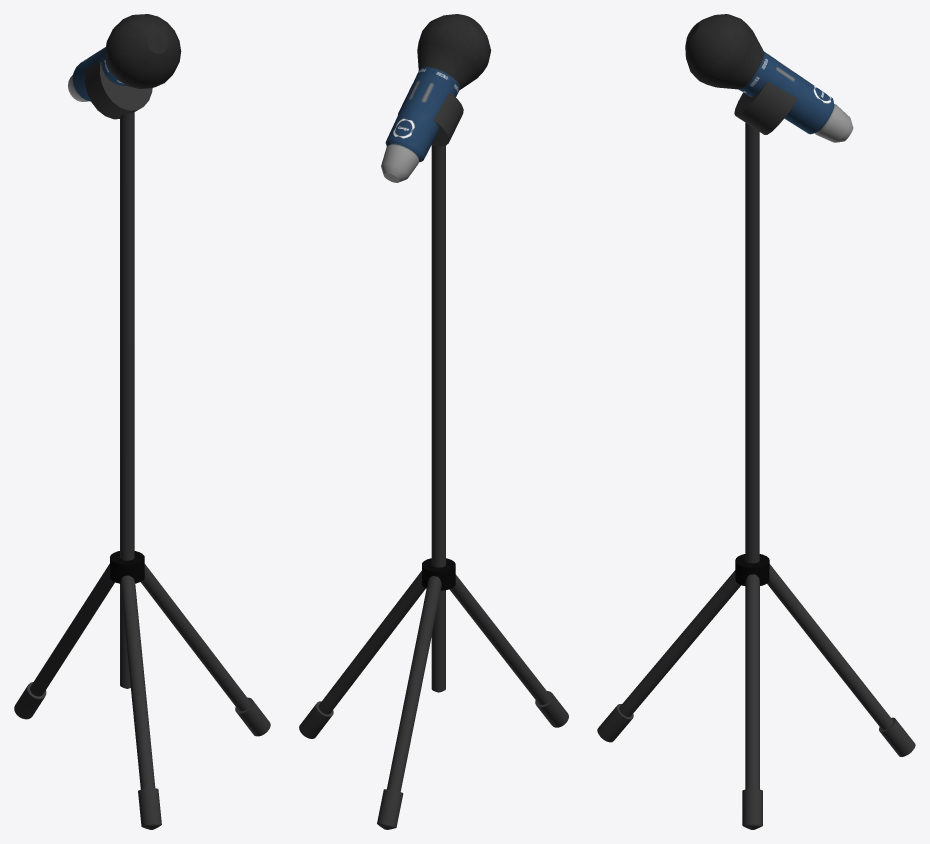
File: micro.glb
3 renders of one model, left to right at view 1: azimuth 30°, elevation 25°; view 2: azimuth 150°, elevation 25°; view 3: azimuth 270°, elevation 25°, orthographic. The views are drawn at different scales.
Visible parts, largest first — view 1: CymbalLowerStick_1, polySurface2, CymbalSupportStick_5, CymbalSupportStick_4, CymbalSupportStick_3, polySurface1, CymbalBipodHolder_1; view 2: polySurface2, CymbalLowerStick_1, CymbalSupportStick_3, CymbalSupportStick_4, CymbalSupportStick_5, polySurface1, CymbalBipodHolder_1; view 3: polySurface2, CymbalLowerStick_1, CymbalSupportStick_4, CymbalSupportStick_3, CymbalSupportStick_5, polySurface1, CymbalBipodHolder_1.
Boxes of the visible parts, x1,y1,x2,y2 form: CymbalLowerStick_1: [120, 112, 134, 688]; polySurface2: [68, 14, 181, 101]; CymbalSupportStick_5: [120, 575, 161, 829]; CymbalSupportStick_4: [140, 564, 270, 736]; CymbalSupportStick_3: [14, 563, 114, 719]; polySurface1: [85, 61, 152, 119]; CymbalBipodHolder_1: [110, 551, 144, 583]; polySurface2: [381, 14, 491, 182]; CymbalLowerStick_1: [431, 145, 445, 692]; CymbalSupportStick_3: [377, 576, 441, 829]; CymbalSupportStick_4: [299, 571, 425, 738]; CymbalSupportStick_5: [449, 574, 568, 727]; polySurface1: [397, 84, 463, 146]; CymbalBipodHolder_1: [422, 558, 455, 590]; polySurface2: [685, 14, 853, 142]; CymbalLowerStick_1: [745, 122, 759, 563]; CymbalSupportStick_4: [742, 574, 762, 829]; CymbalSupportStick_3: [767, 564, 915, 756]; CymbalSupportStick_5: [597, 570, 741, 742]; polySurface1: [734, 81, 797, 134]; CymbalBipodHolder_1: [735, 554, 769, 585].
Bounding box in the file's own units: 5.19 × 18.81 × 7.24.
Materials: 5 (5 with a texture image).
